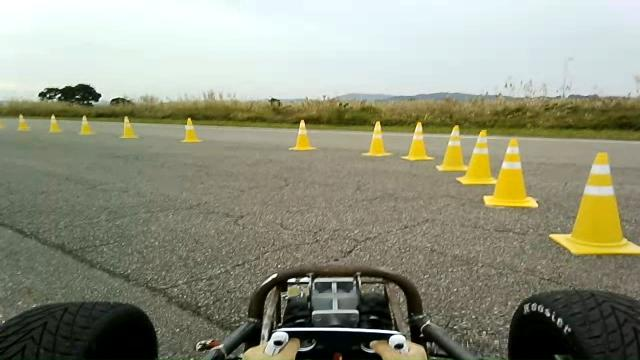yellow cone: (549, 152, 639, 255), (482, 138, 538, 208), (456, 129, 496, 185), (436, 124, 468, 172), (400, 121, 434, 161), (361, 120, 392, 157), (288, 119, 316, 151), (180, 117, 202, 143), (119, 116, 138, 138), (78, 114, 95, 134), (48, 114, 63, 133), (16, 113, 30, 131), (0, 119, 4, 129)
